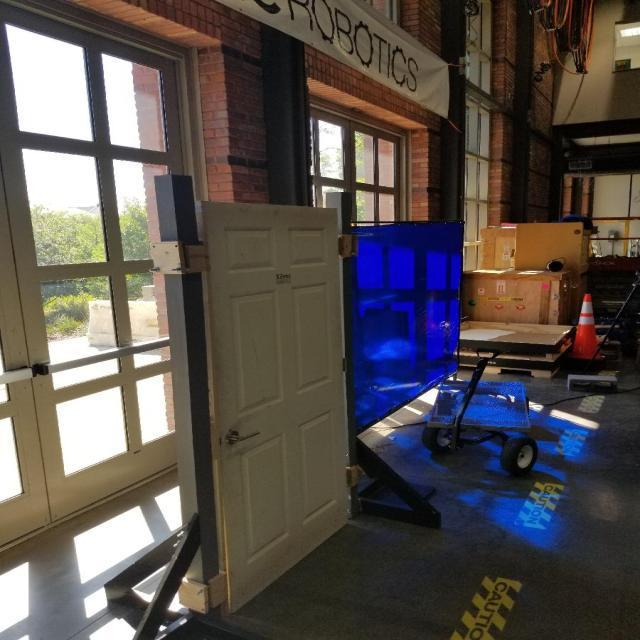door: (186, 198, 354, 616), (221, 420, 267, 448)
